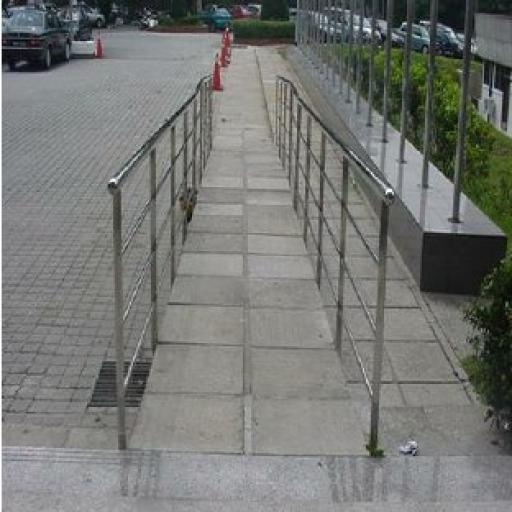ramp: (129, 130, 370, 461)
